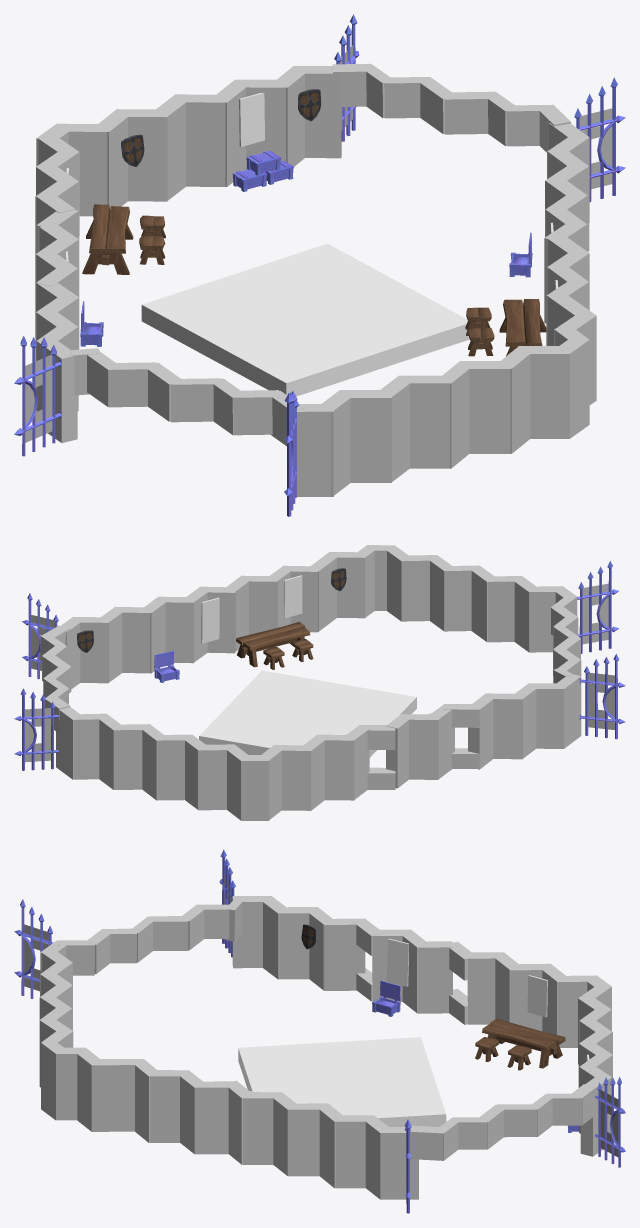
Rendered from FirtsHome.fbx.
The picture shows the model from 3 angles, top to bottom: view 1: azimuth 30°, elevation 25°; view 2: azimuth 150°, elevation 25°; view 3: azimuth 270°, elevation 25°; orthographic projection. The views are drawn at different scales.
Parts seen in each view (by area): view 1: Cov__14_, Cube__98_, Cube__94_, Cube__96_, Cube__92_, Cube__68_, Cube__100_, Cube__66_, Graveyard_01__4_, Cube__72_, Cube__64_, Graveyard_01__9_ (+50 smaller); view 2: Cov__14_, Graveyard_01__4_, Graveyard_01__5_, Graveyard_01__8_, Cube__61_, Cube__69_, Cube__54_, Cube__58_, Cube__75_, Cube__50_, Cube__65_, Cube__24_ (+48 smaller); view 3: Cov__14_, Cube__88_, Cube__51_, Cube__84_, Cube__76_, Cube__55_, Cube__78_, Cube__74_, Cube__80_, Cube__86_, Cube__25_, Cube__57_ (+45 smaller).
Boxes of the visible parts, box(x1,y1,x2,y2) form: Cov__14_: box(141, 243, 469, 396); Cube__98_: box(339, 390, 391, 482); Cube__94_: box(459, 361, 510, 453); Cube__96_: box(398, 375, 451, 468); Cube__92_: box(518, 346, 569, 438); Cube__68_: box(174, 94, 225, 186); Cube__100_: box(297, 404, 333, 496); Cube__66_: box(116, 109, 167, 201); Graveyard_01__4_: box(14, 336, 61, 456); Cube__72_: box(293, 66, 341, 158); Cube__64_: box(57, 123, 107, 216); Graveyard_01__9_: box(574, 77, 625, 202); Cov__14_: box(199, 670, 416, 757); Graveyard_01__4_: box(579, 654, 625, 739); Graveyard_01__5_: box(577, 561, 618, 653); Graveyard_01__8_: box(14, 688, 58, 770); Cube__61_: box(275, 745, 311, 810); Cube__69_: box(113, 724, 150, 789); Cube__54_: box(402, 714, 438, 779); Cube__58_: box(318, 734, 354, 800); Cube__75_: box(114, 606, 150, 673); Cube__50_: box(487, 693, 522, 759); Cube__65_: box(197, 744, 234, 810); Cube__24_: box(528, 683, 564, 748); Cov__14_: box(238, 1037, 446, 1126); Cube__88_: box(91, 1059, 141, 1131); Cube__51_: box(324, 918, 365, 990); Cube__84_: box(194, 1081, 235, 1154); Cube__76_: box(287, 1103, 328, 1176); Cube__55_: box(417, 941, 452, 1013); Cube__78_: box(241, 1092, 280, 1164); Cube__74_: box(334, 1115, 372, 1188); Cube__80_: box(380, 1127, 418, 1199); Cube__86_: box(150, 1070, 185, 1142); Cube__25_: box(279, 907, 317, 979); Cube__57_: box(467, 952, 503, 1024).
Size of the model in its own units: 1069 by 197 by 989.
